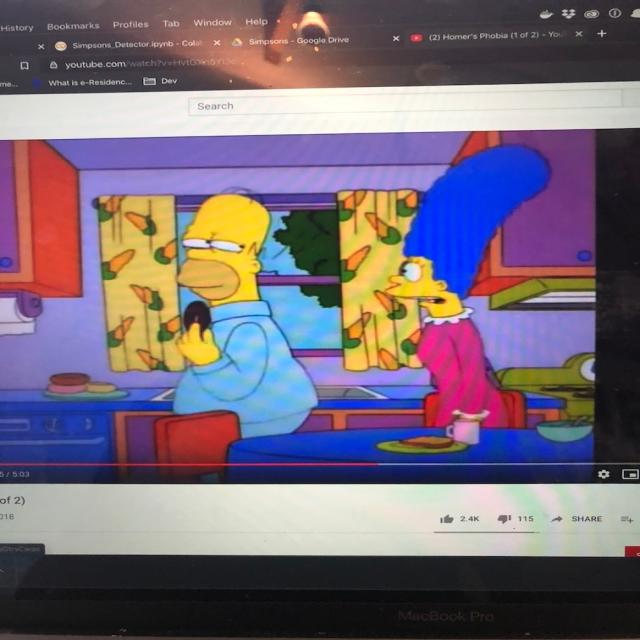Homer Simpson: (172, 185, 273, 312)
Marge Simpson: (383, 139, 558, 328)
